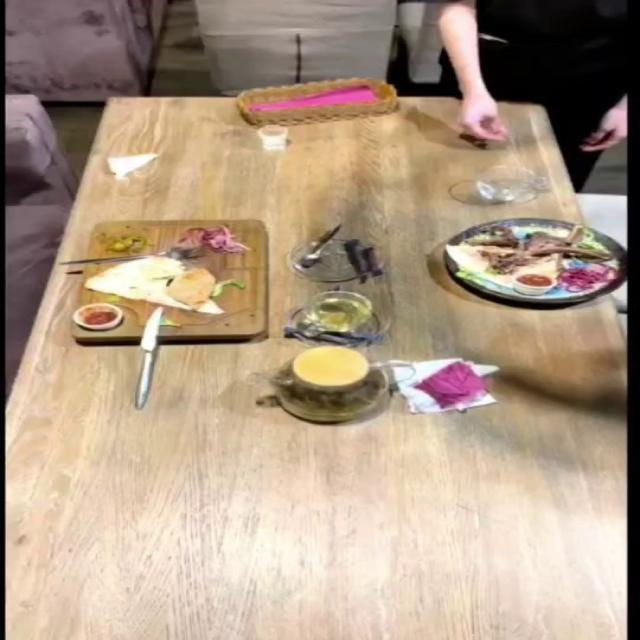meat: (70, 218, 267, 344), (456, 215, 640, 318)
tea: (269, 346, 388, 422)
